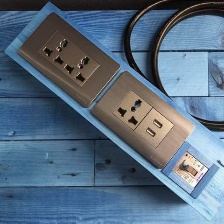three_eye_plug: (87, 68, 198, 170), (14, 8, 122, 106)
